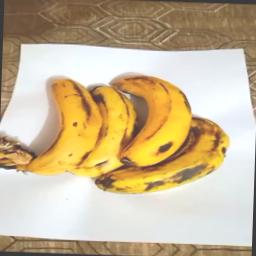Banana Unripe: (111, 70, 196, 175), (26, 74, 109, 180), (82, 77, 136, 182)
